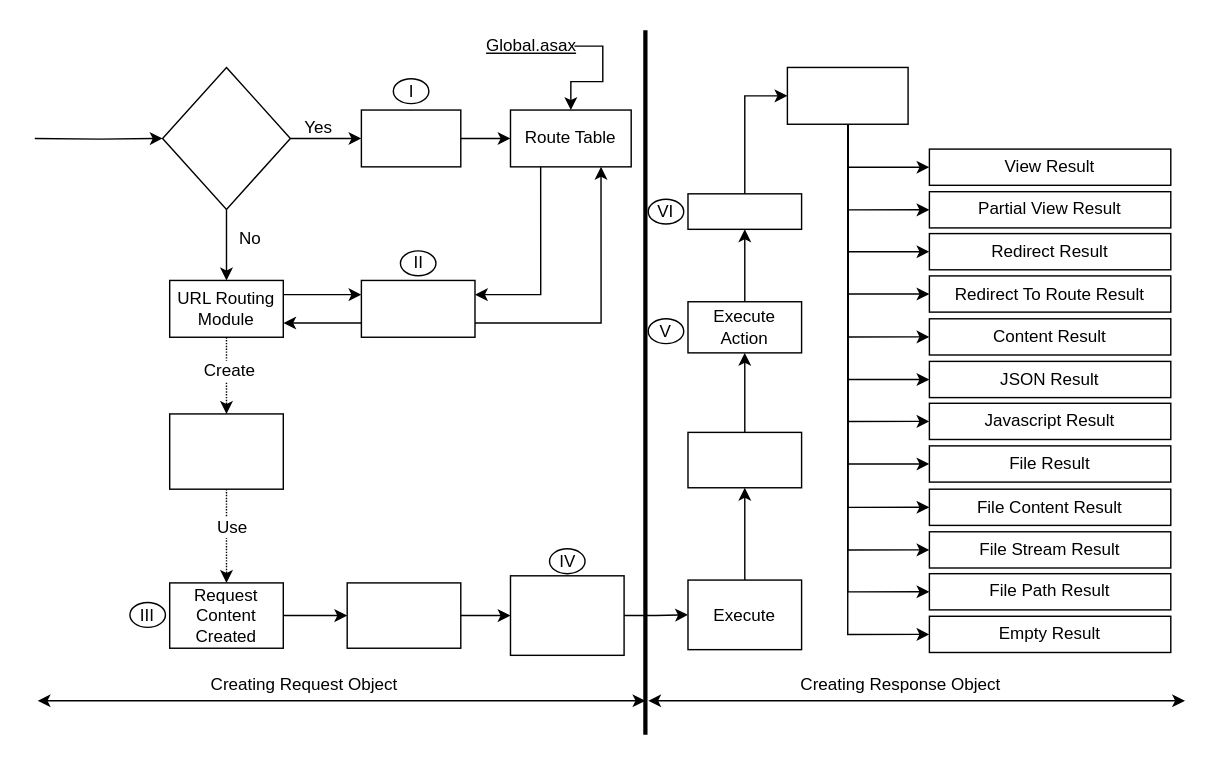
Some shapes in this 1223 by 763 pixel diagram are drawn without their labels. The centre of each missing label's shape, as x and y in pixels:
"Action Result" goes at [847,95].
"Controller Action Invoke" goes at [744,459].
"Controller Instance Created" goes at [566,614].
"Fetch Route" goes at [417,308].
"Fill Route" goes at [410,138].
"Is First Request?" goes at [225,137].
"MVC Handler" goes at [403,614].
"Result Sent" goes at [744,210].
"Routing Data Object" goes at [225,451].
